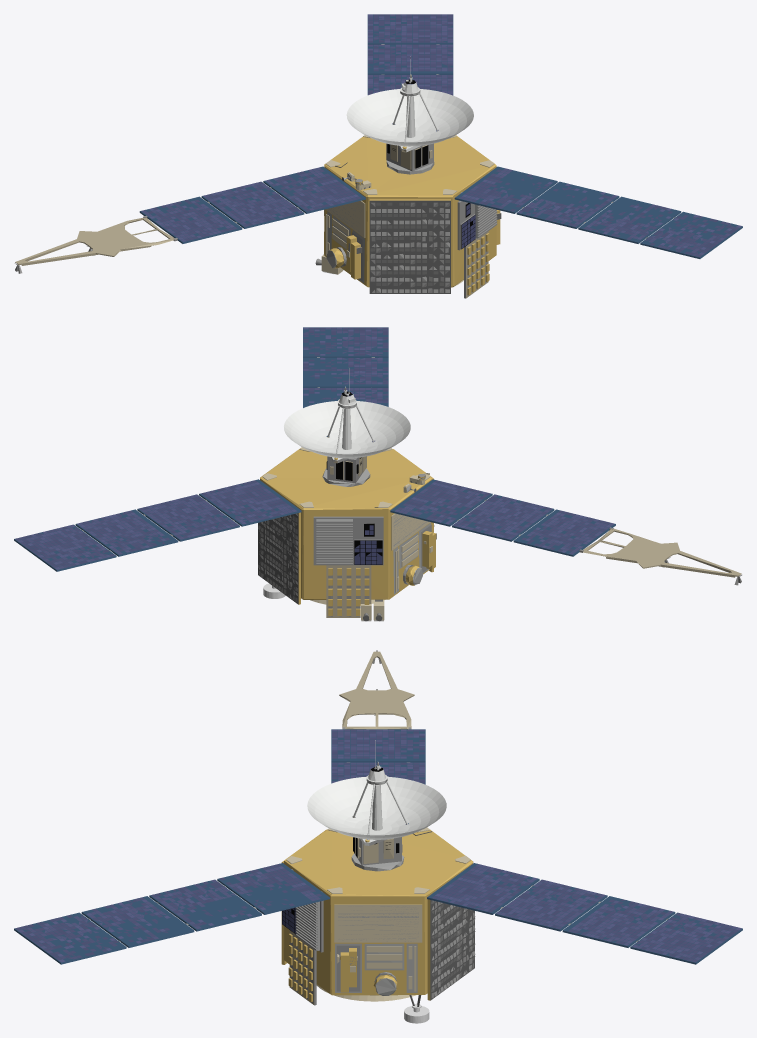
File: juno.glb
The picture shows the model from 3 angles, top to bottom: view 1: azimuth 30°, elevation 25°; view 2: azimuth 150°, elevation 25°; view 3: azimuth 270°, elevation 25°; orthographic projection. The views are drawn at different scales.
Parts seen in each view (by area): view 1: Layer_0; view 2: Layer_0; view 3: Layer_0.
Boxes of the visible parts, left/top/right/bottom form: Layer_0: left=14, top=14, right=742, bottom=298; Layer_0: left=14, top=327, right=741, bottom=621; Layer_0: left=14, top=650, right=742, bottom=1023.
Bounding box in the file's own units: 23.26 × 8.73 × 22.92.
